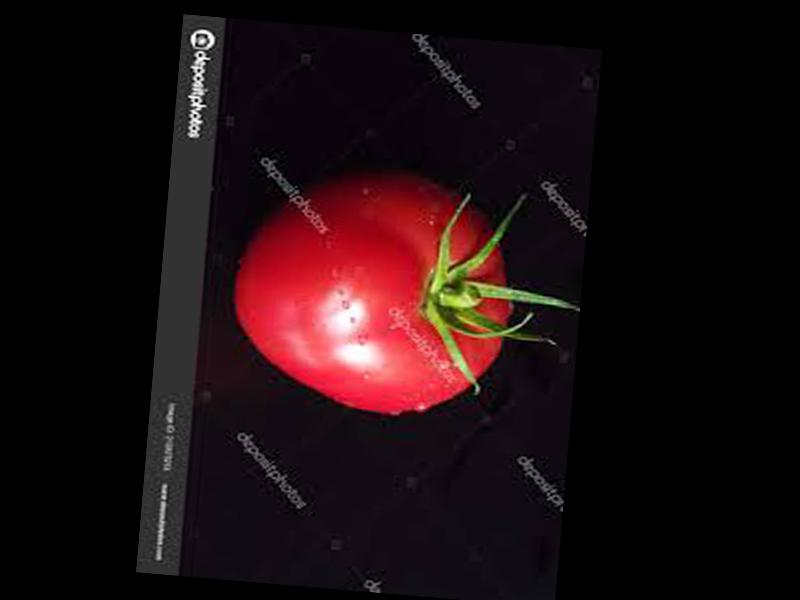Tomato: (226, 160, 521, 423)
